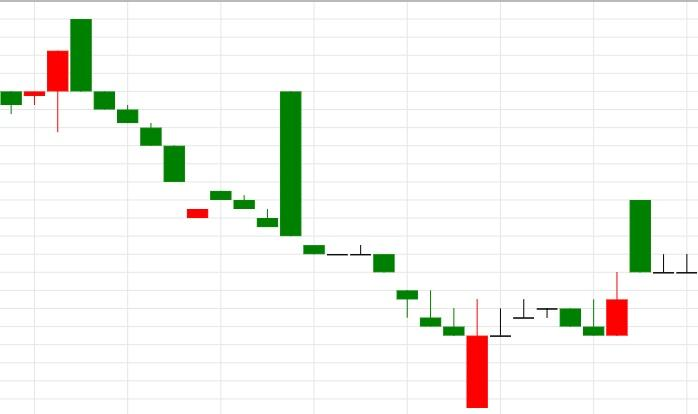bullish_engulfing_rise: (536, 272, 628, 336)
three_black_crows_fall: (0, 18, 139, 133)
